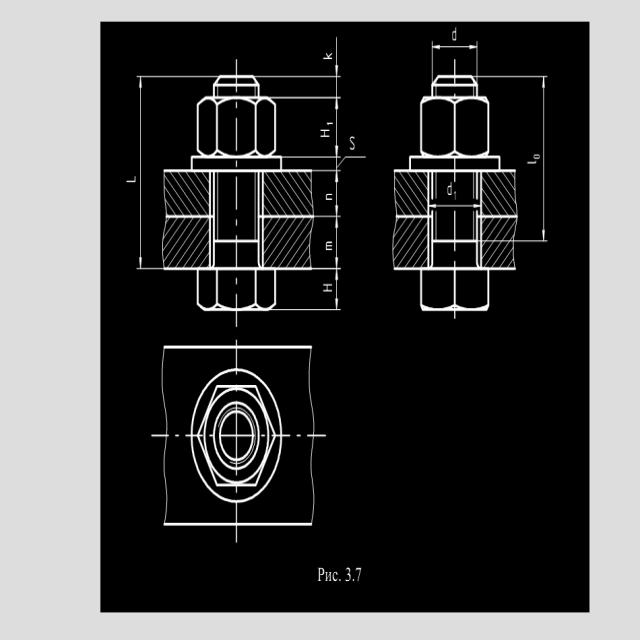marking_line: (137, 78, 145, 268), (538, 76, 547, 239), (332, 98, 342, 155), (428, 201, 483, 208), (333, 217, 340, 267), (432, 43, 477, 50), (333, 174, 338, 216), (332, 272, 338, 306), (335, 34, 338, 77)
